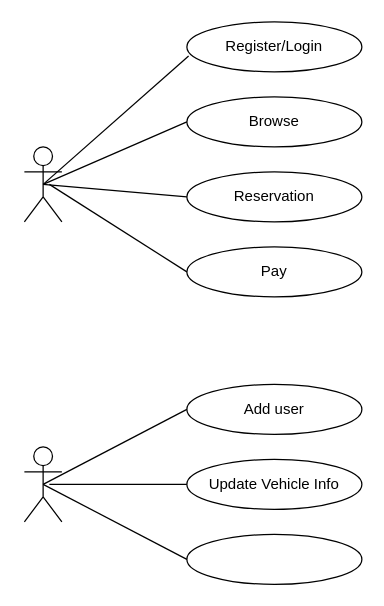
The diagram is 384 pixels wide and 606 high, and some of its shapes have lost their labels. Each missing label, with the centre of its shape:
Admin: pixel 42 484
User: pixel 42 184
